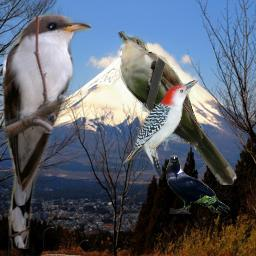Crow: (165, 155, 231, 214)
Cuckoo: (0, 12, 91, 249), (118, 31, 237, 185)
Woodpecker: (121, 80, 199, 182)
